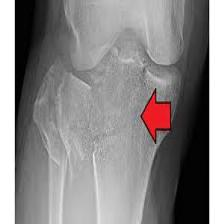impacted-fracture: (14, 0, 209, 224)
